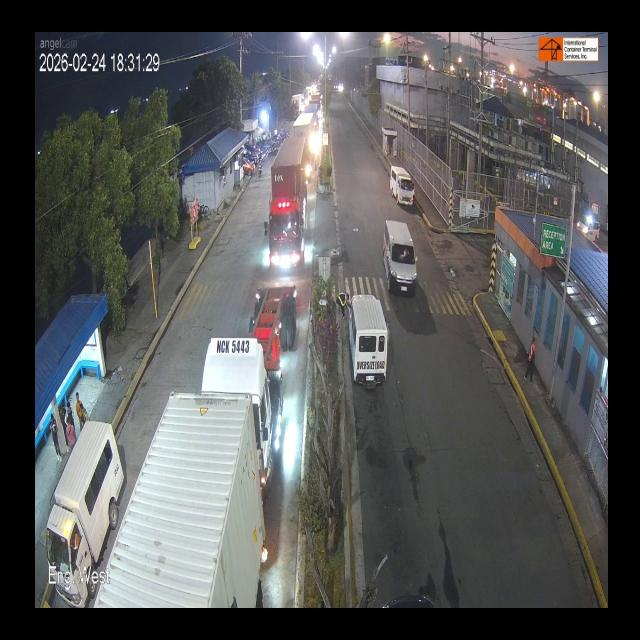car: (52, 438, 116, 566), (375, 212, 427, 310), (341, 298, 392, 389), (388, 166, 416, 206)
truck: (197, 276, 310, 505), (264, 126, 320, 280)
